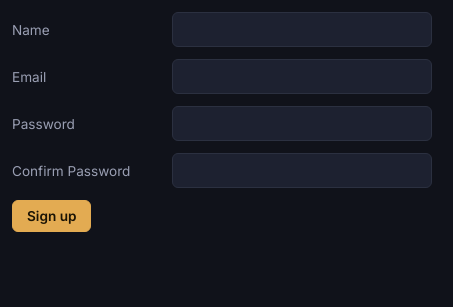
Test: RhfSignupForm › submits successfully with valid input
Type "Piyush" into the field labelled "Name".
click(302, 30); type("Piyush")  # box [172,12,432,47]
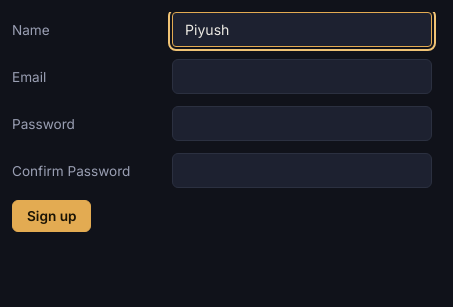
Type "piyush@example.com" into the field labelled "Email".
click(302, 76); type("piyush@example.com")  # box [172,59,432,94]
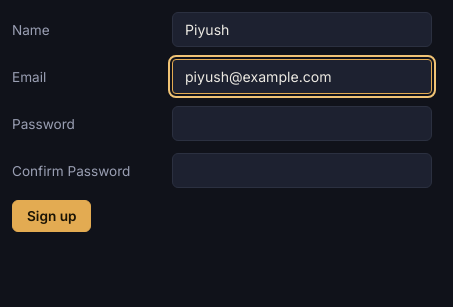
Type "secret123" into the password field labelled "Password".
click(302, 124); type("secret123")  # box [172,106,432,141]
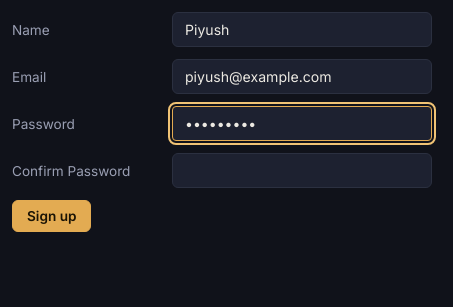
Type "secret123" into the password field labelled "Confirm Password".
click(302, 170); type("secret123")  # box [172,153,432,188]
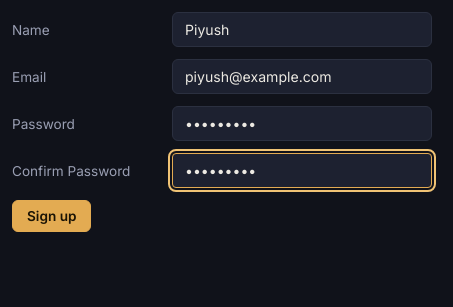
Click the button "Sign up".
click(52, 216)  # box [12,200,92,232]
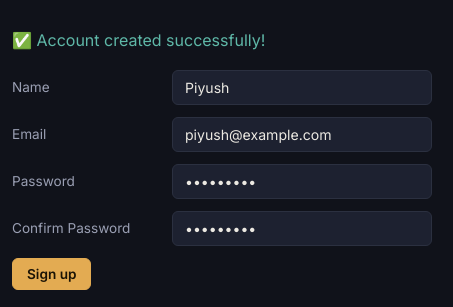
Result: the text "✅ Account created successfully!" is shown at [12,30,265,50]
